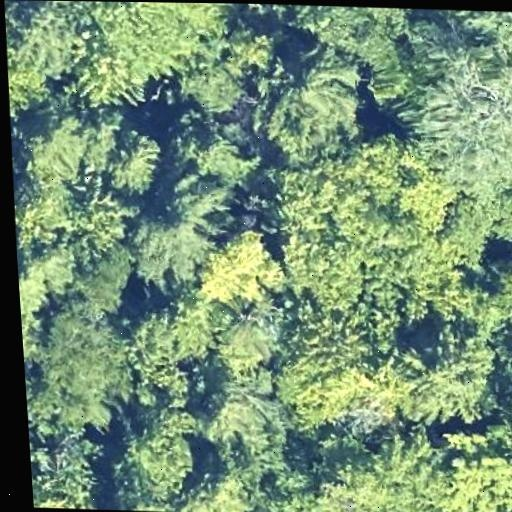tree-top: (8, 105, 157, 240), (45, 1, 235, 93), (396, 36, 512, 185), (31, 298, 137, 428), (394, 322, 506, 435), (303, 430, 440, 512), (253, 60, 362, 156), (269, 341, 377, 434), (122, 184, 218, 288), (270, 220, 376, 311), (386, 228, 481, 323), (121, 300, 207, 396), (111, 413, 205, 500), (194, 374, 291, 458), (186, 229, 288, 304), (165, 113, 263, 187), (286, 5, 419, 54), (11, 0, 88, 80), (97, 122, 172, 201), (205, 302, 284, 377), (29, 430, 101, 509), (433, 441, 512, 512), (388, 159, 461, 231), (345, 131, 412, 207), (4, 23, 48, 130), (178, 466, 255, 512), (20, 293, 49, 377), (32, 477, 101, 509), (486, 254, 512, 332), (416, 8, 512, 28), (498, 328, 512, 424), (494, 401, 512, 475), (232, 3, 307, 17)
